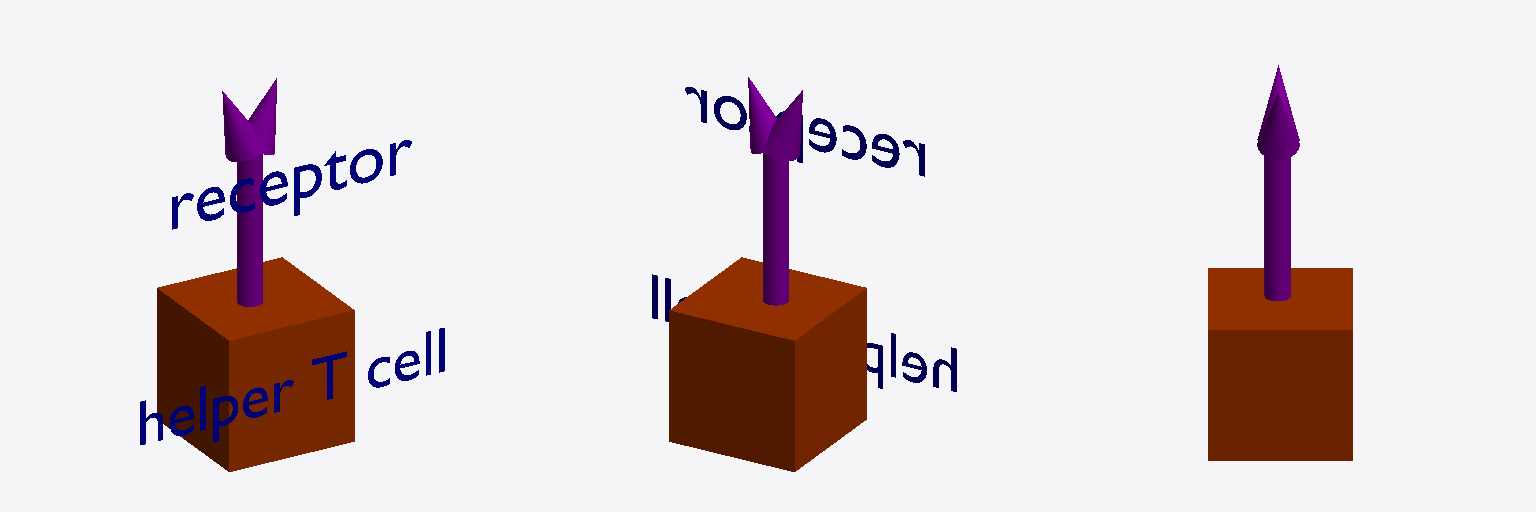
Rendered from htc.obj.
The picture shows the model from 3 angles: view 1: azimuth 30°, elevation 25°; view 2: azimuth 150°, elevation 25°; view 3: azimuth 270°, elevation 25°; orthographic projection.
Parts seen in each view (by area): view 1: Cube, Text, Cylinder, Text.001_Text.002, Cone.001_Cone.004, Cone.002_Cone.005; view 2: Cube, Cylinder, Text.001_Text.002, Text, Cone.001_Cone.004, Cone.002_Cone.005; view 3: Cube, Cylinder, Cone.002_Cone.005, Cone.001_Cone.004.
Boxes of the visible parts, x1,y1,x2,y2 form: Cube: [157, 257, 354, 471]; Text: [140, 328, 444, 444]; Cylinder: [237, 154, 262, 306]; Text.001_Text.002: [172, 140, 411, 229]; Cone.001_Cone.004: [222, 91, 259, 162]; Cone.002_Cone.005: [248, 78, 276, 154]; Cube: [669, 257, 866, 471]; Cylinder: [763, 153, 788, 305]; Text.001_Text.002: [685, 87, 924, 176]; Text: [652, 274, 956, 391]; Cone.001_Cone.004: [765, 90, 802, 160]; Cone.002_Cone.005: [748, 77, 776, 153]; Cube: [1208, 268, 1352, 460]; Cylinder: [1264, 156, 1290, 300]; Cone.002_Cone.005: [1257, 92, 1299, 159]; Cone.001_Cone.004: [1257, 65, 1299, 140].
Bounding box in the file's own units: 3.25 × 3.56 × 1.34.